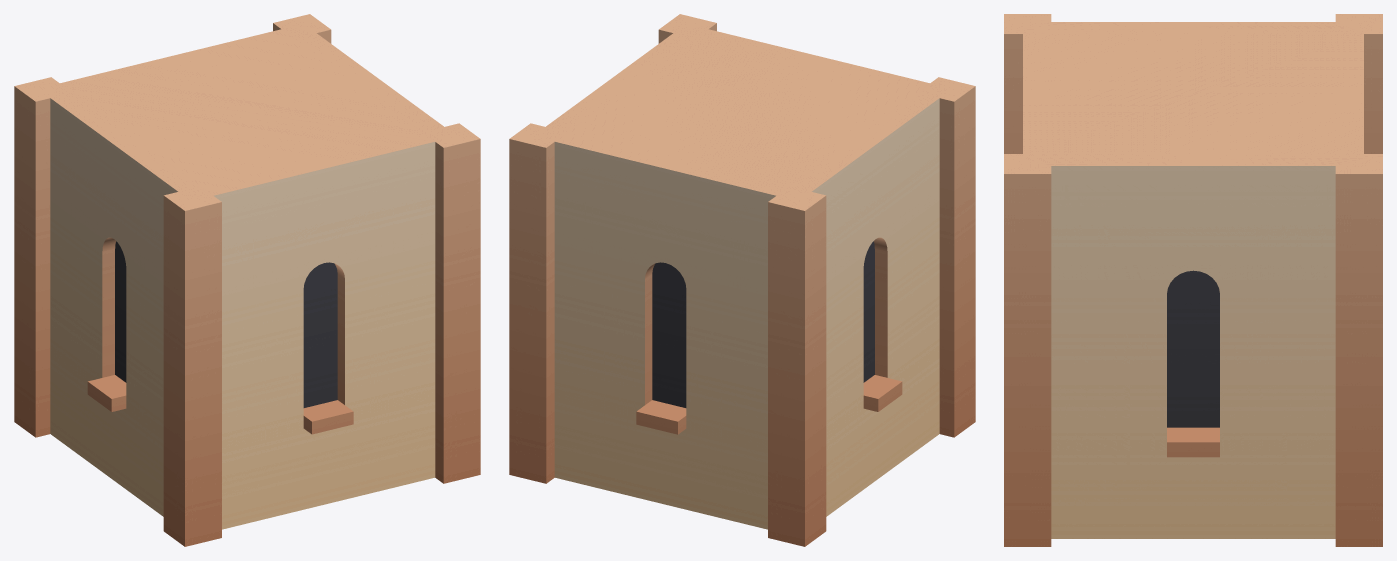
File: tower-square-mid-windows.glb
3 renders of one model, left to right at view 1: azimuth 30°, elevation 25°; view 2: azimuth 150°, elevation 25°; view 3: azimuth 270°, elevation 25°, orthographic. The views are drawn at different scales.
Visible parts, largest first — view 1: tower-square-mid-windows; view 2: tower-square-mid-windows; view 3: tower-square-mid-windows.
Part boxes in pixels (left/top/right/bottom): tower-square-mid-windows: left=14, top=14, right=480, bottom=546; tower-square-mid-windows: left=509, top=14, right=975, bottom=546; tower-square-mid-windows: left=1004, top=14, right=1382, bottom=546.
Bounding box in the file's own units: 0.93 × 1.01 × 0.93.
Materials: 1 (1 with a texture image).
